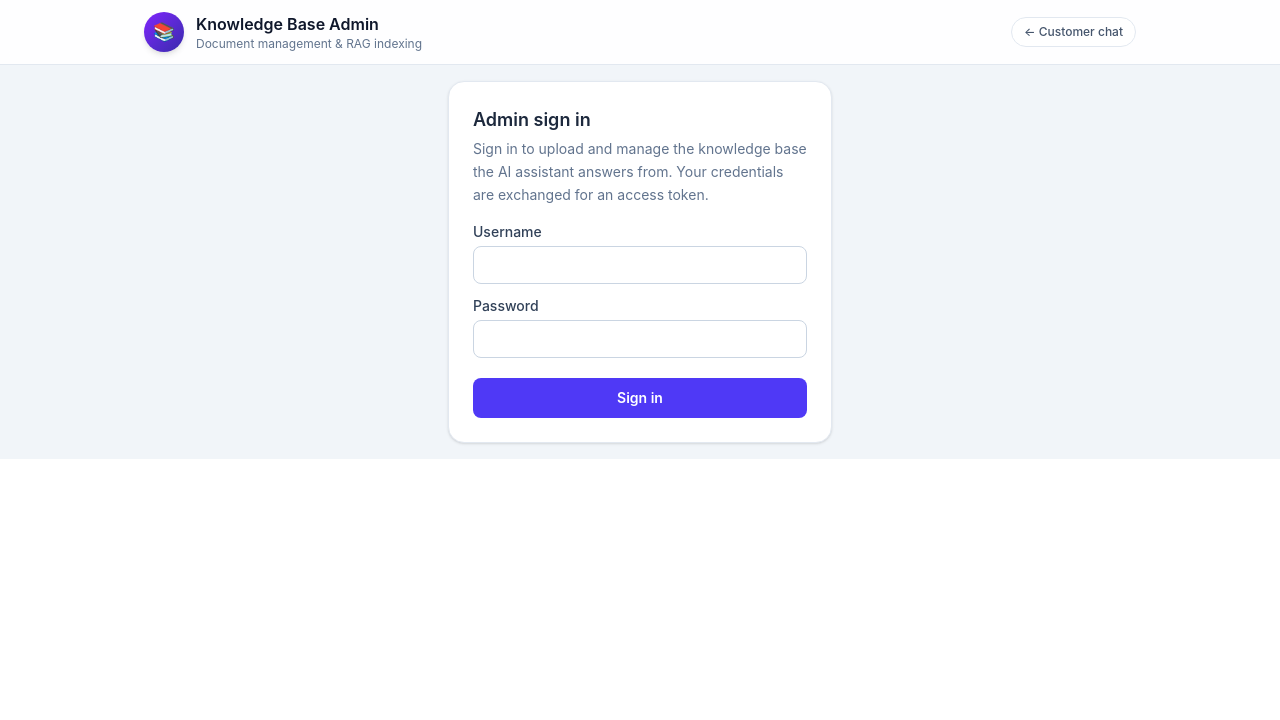
Scenario: KnowledgeBaseAdmin › rejects invalid credentials with an inline error
In the field labelled "Username": (640, 265) left=473, top=246, right=807, bottom=284, type "admin"
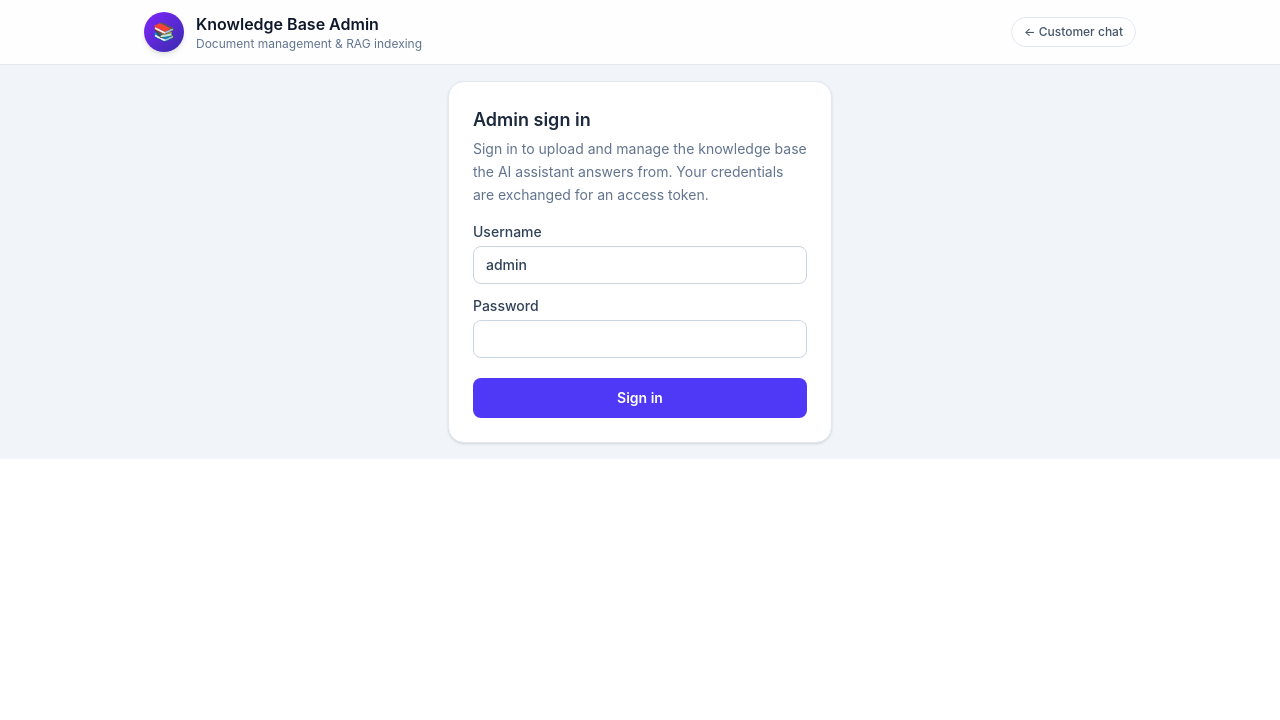
In the password field labelled "Password": (640, 339) left=473, top=320, right=807, bottom=358, type "admin123"
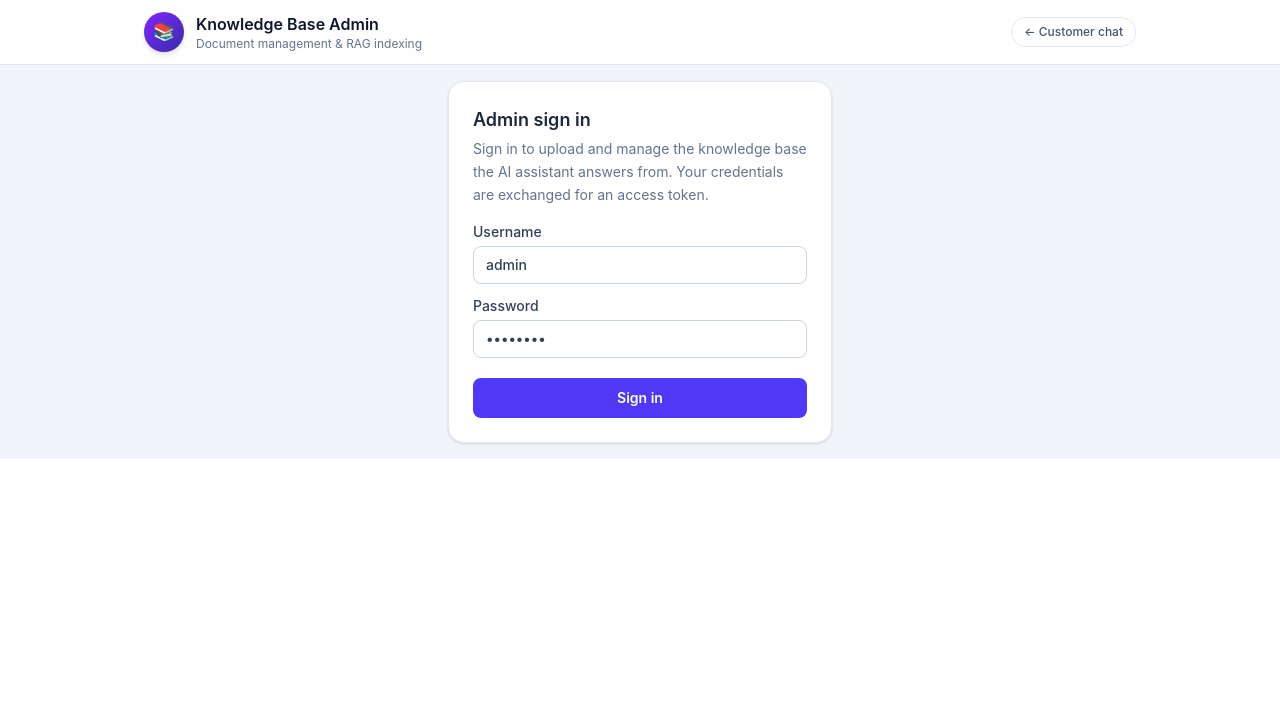
Submit the form, box left=448, top=81, right=832, bottom=443
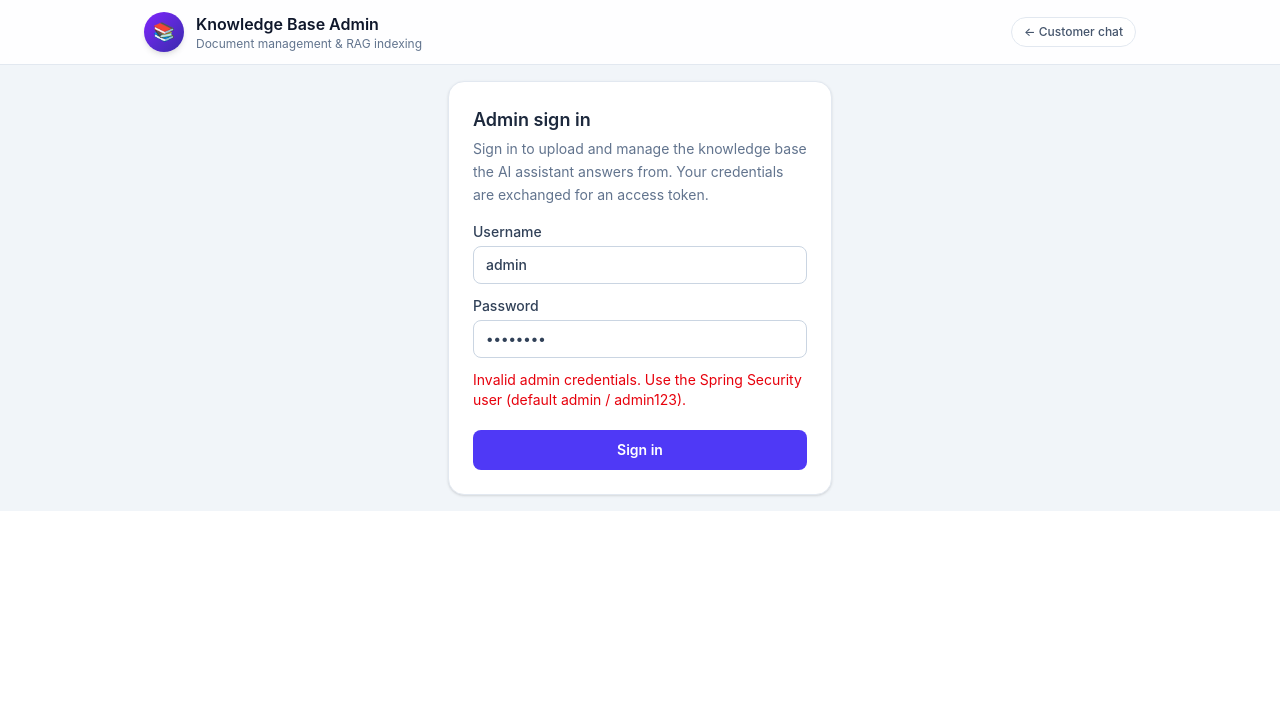
Result: the text "Invalid admin credentials" is shown at left=473, top=371, right=802, bottom=408
